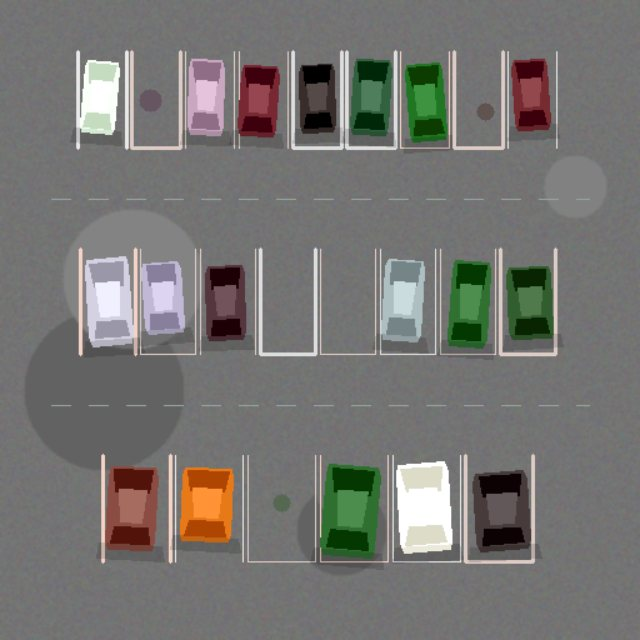space-empty: (247, 455, 315, 561), (260, 249, 315, 354), (320, 249, 375, 354), (131, 51, 180, 147), (454, 51, 502, 147)
space-occupied: (175, 455, 243, 561), (465, 455, 533, 561), (103, 455, 170, 561), (320, 455, 387, 561), (393, 455, 460, 561), (80, 249, 135, 354), (140, 249, 195, 354), (200, 249, 255, 354), (380, 249, 435, 354), (440, 249, 495, 354), (500, 249, 555, 354), (185, 51, 234, 147), (239, 51, 288, 147), (292, 51, 341, 147), (346, 51, 395, 147), (400, 51, 449, 147), (78, 51, 126, 147), (508, 51, 556, 147)
